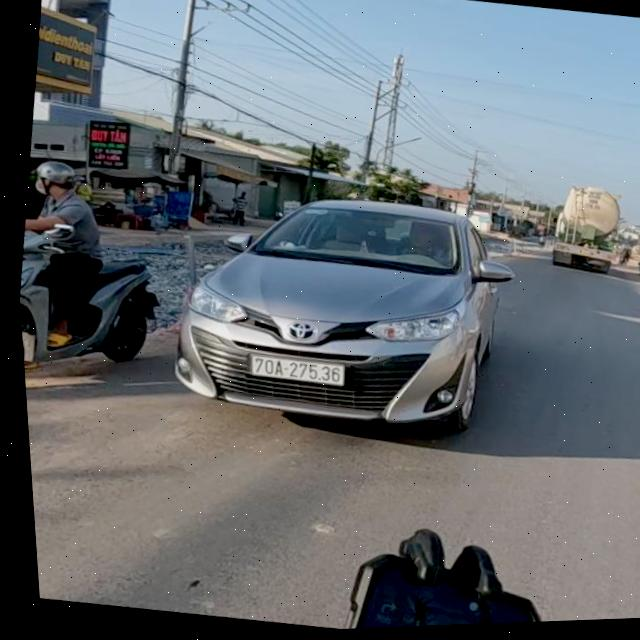car: (151, 166, 544, 463)
motorcycle: (15, 222, 167, 391)
plate: (236, 339, 355, 401)
